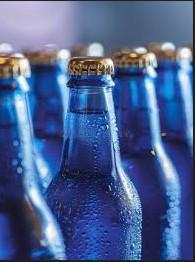bottle: (0, 47, 62, 259), (60, 46, 118, 247), (121, 46, 170, 209), (33, 48, 65, 150)
